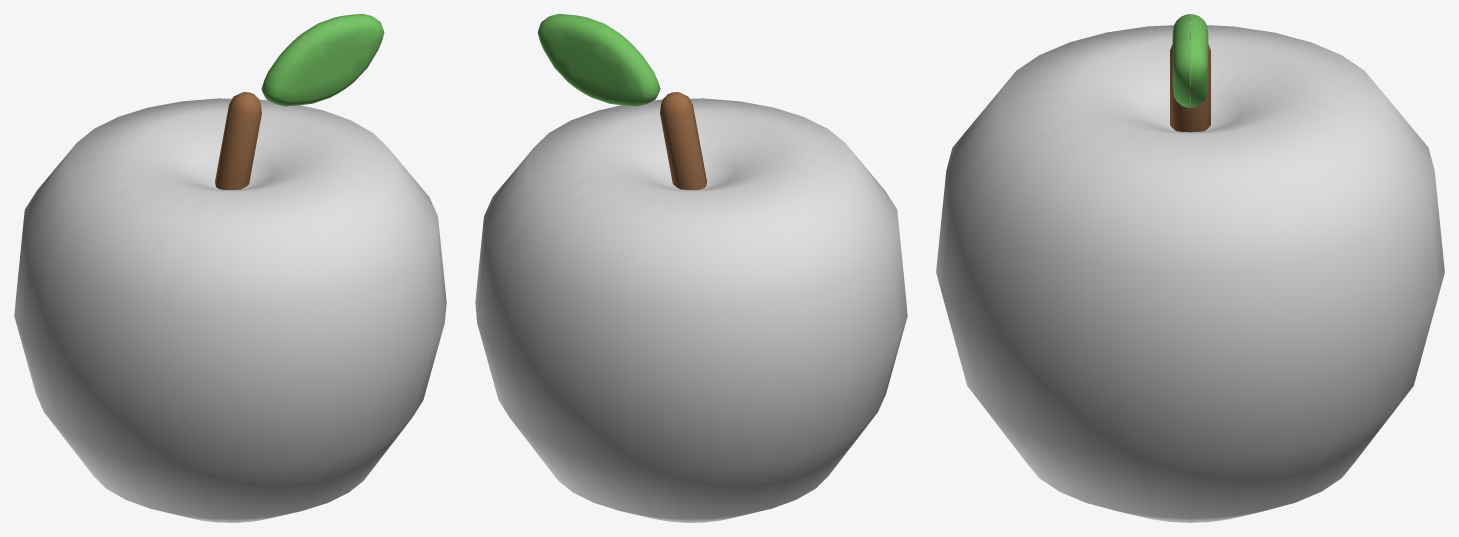
Rendered from apple.glb.
The picture shows the model from 3 angles, left to right: view 1: azimuth 30°, elevation 25°; view 2: azimuth 150°, elevation 25°; view 3: azimuth 270°, elevation 25°; orthographic projection. The views are drawn at different scales.
Visible parts, largest first — view 1: apple; view 2: apple; view 3: apple.
Boxes of the visible parts, x1=… form: apple: x1=14, y1=14, x2=446, y2=522; apple: x1=475, y1=14, x2=907, y2=522; apple: x1=936, y1=14, x2=1444, y2=522.
Size of the model in its own units: 0.8823 by 1 by 0.8823.
